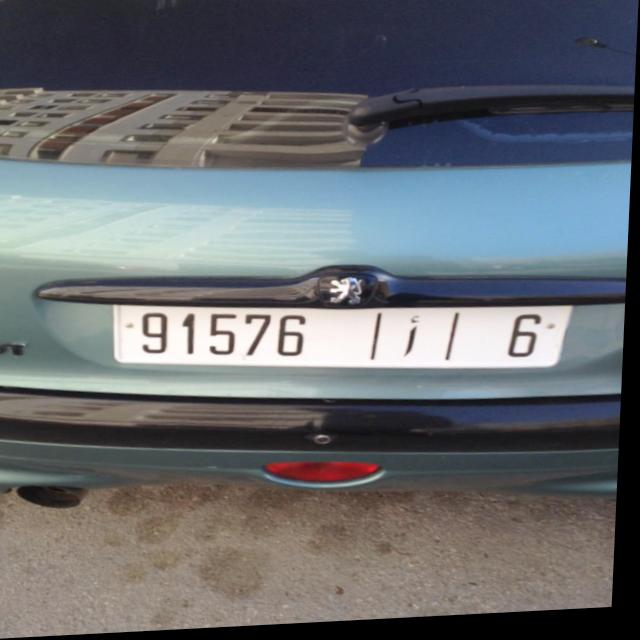License-Plate: (116, 306, 576, 375)
